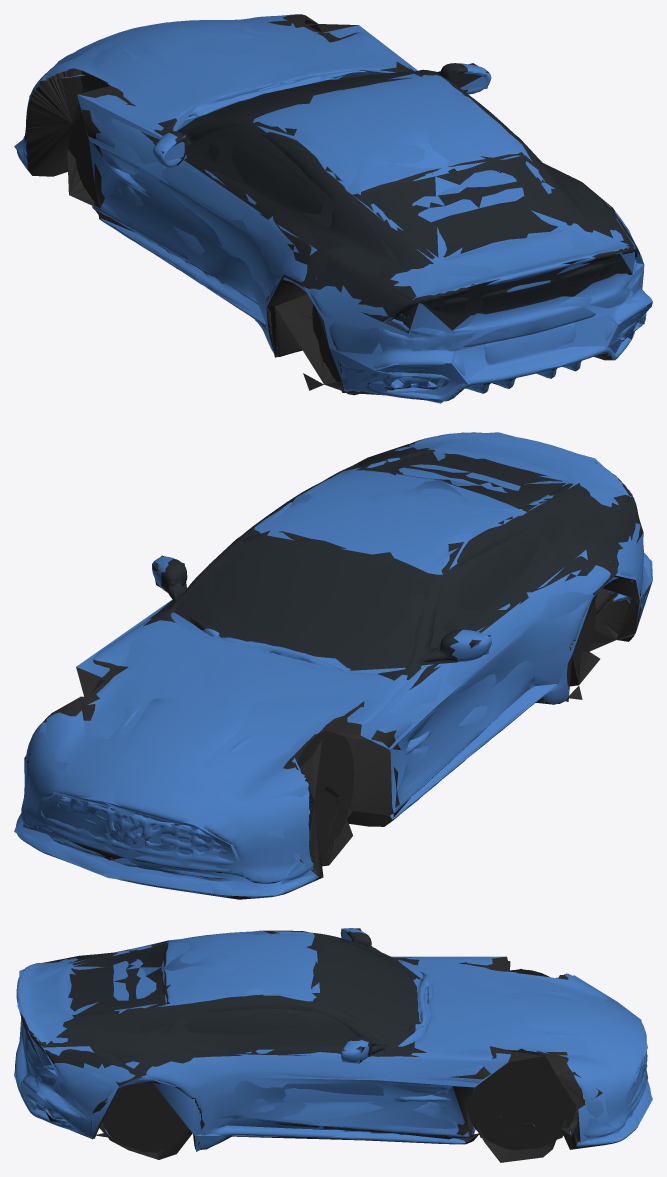
File: aston-martin-vanquish.glb
3 views of the same model, one above another, from view 1: azimuth 30°, elevation 25°; view 2: azimuth 150°, elevation 25°; view 3: azimuth 270°, elevation 25° (orthographic). The views are drawn at different scales.
Visible parts, largest first — view 1: body, far; view 2: body, far; view 3: body, far.
Boxes of the visible parts, x1,y1,x2,y2 form: body: (16,14,651,401); far: (14,17,652,403); body: (16,432,651,899); far: (14,432,652,895); body: (15,928,650,1162); far: (14,928,652,1152).
Size of the model in its own units: 2.25 by 1.3 by 4.88.
